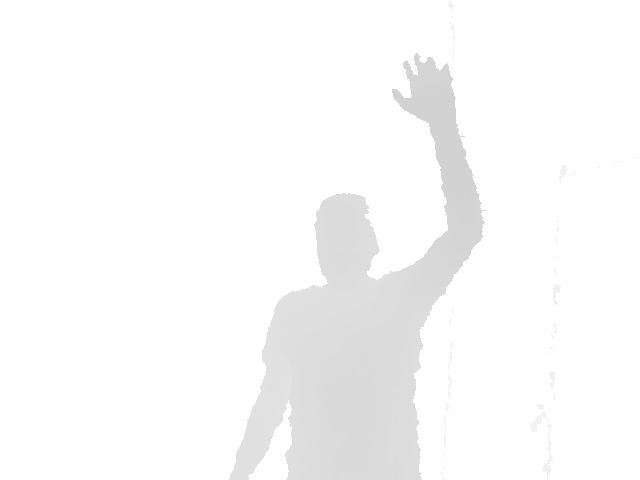hand: (390, 52, 458, 123)
head: (313, 192, 381, 283)
person: (224, 52, 484, 480)
